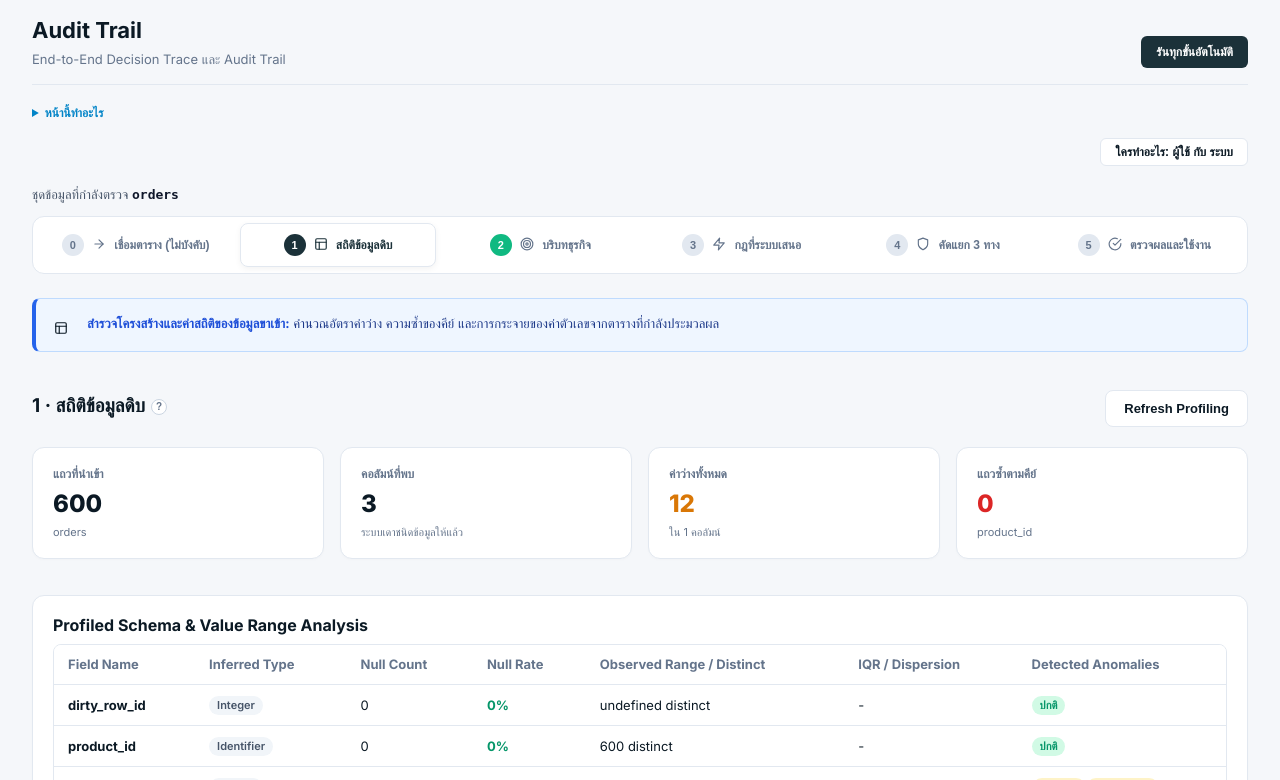
treats no shared key as a normal answer, not an error
The width and height of the screenshot is (1280, 780).
Click the button with class "wb-step-btn" showing "0 เชื่อมตาราง (ไม่บังคับ)": (136, 245) [39,223,232,267]
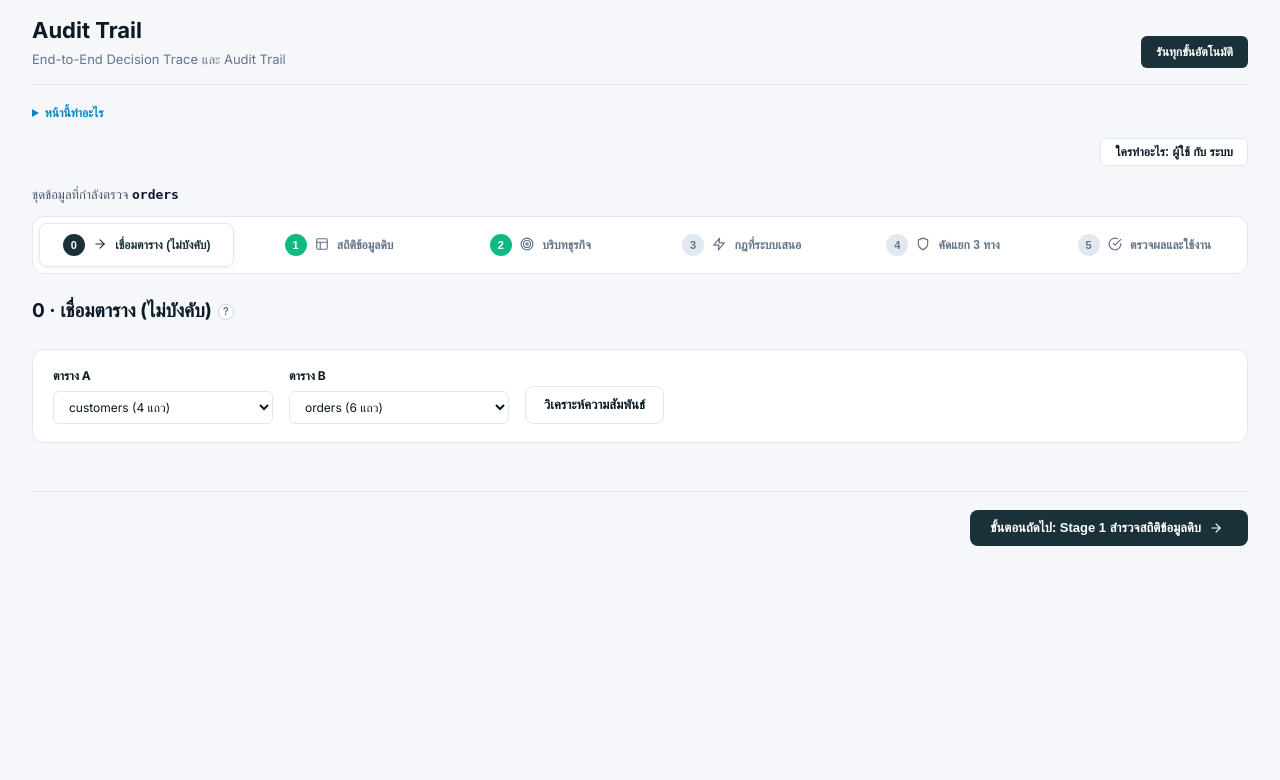
Click the button "วิเคราะห์ความสัมพันธ์": (594, 404) [525,386,664,424]
(page scrolled)
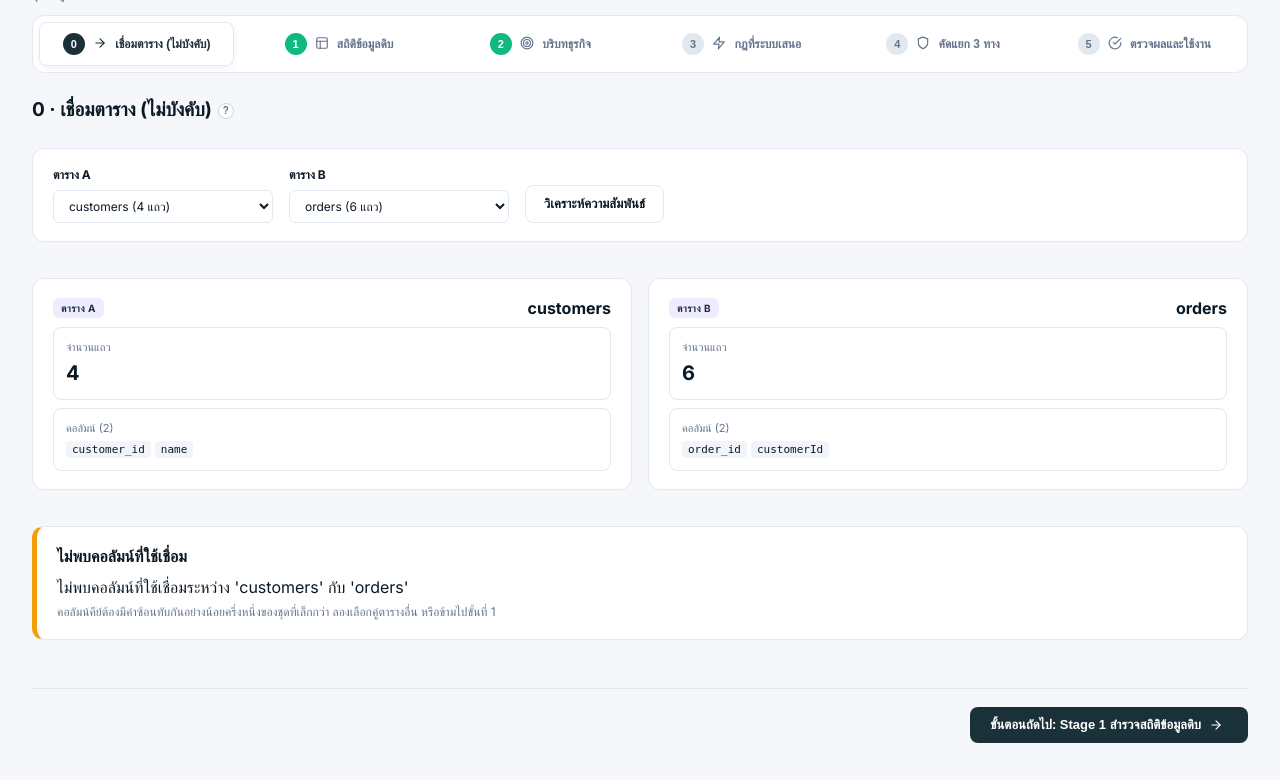
Now the element with test id "join-no-key" shows "ไม่พบคอลัมน์ที่ใช้เชื่อมระหว่าง", box [57,576,408,596]
